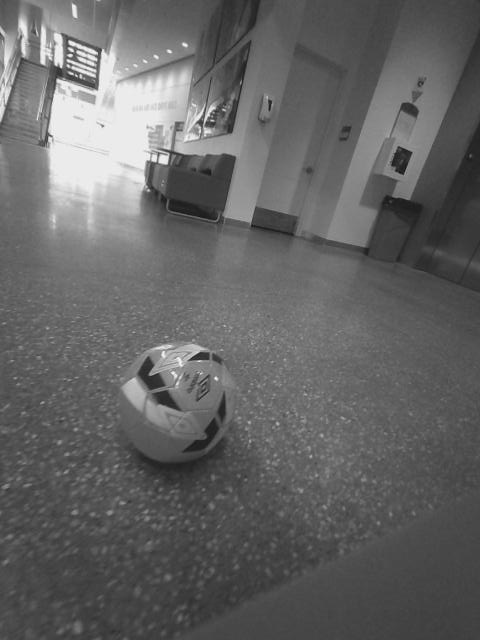ball: (257, 246, 297, 288)
